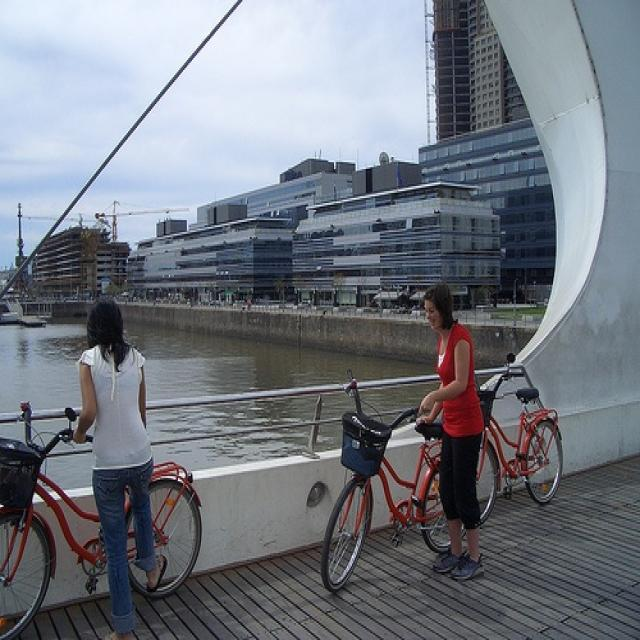bicycle: (0, 401, 210, 637), (321, 374, 470, 590), (471, 353, 570, 524)
